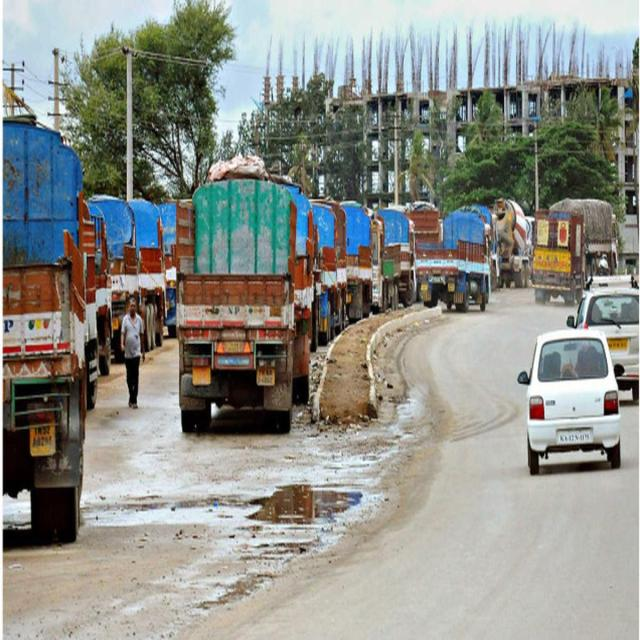car: (518, 329, 620, 475), (566, 275, 640, 400)
truck: (175, 179, 296, 431), (416, 208, 490, 311), (532, 210, 584, 304)
